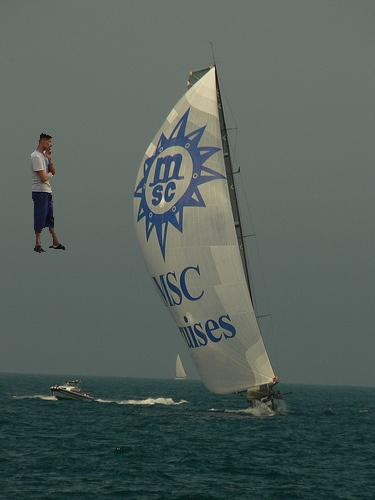tampered: (32, 134, 65, 253)
